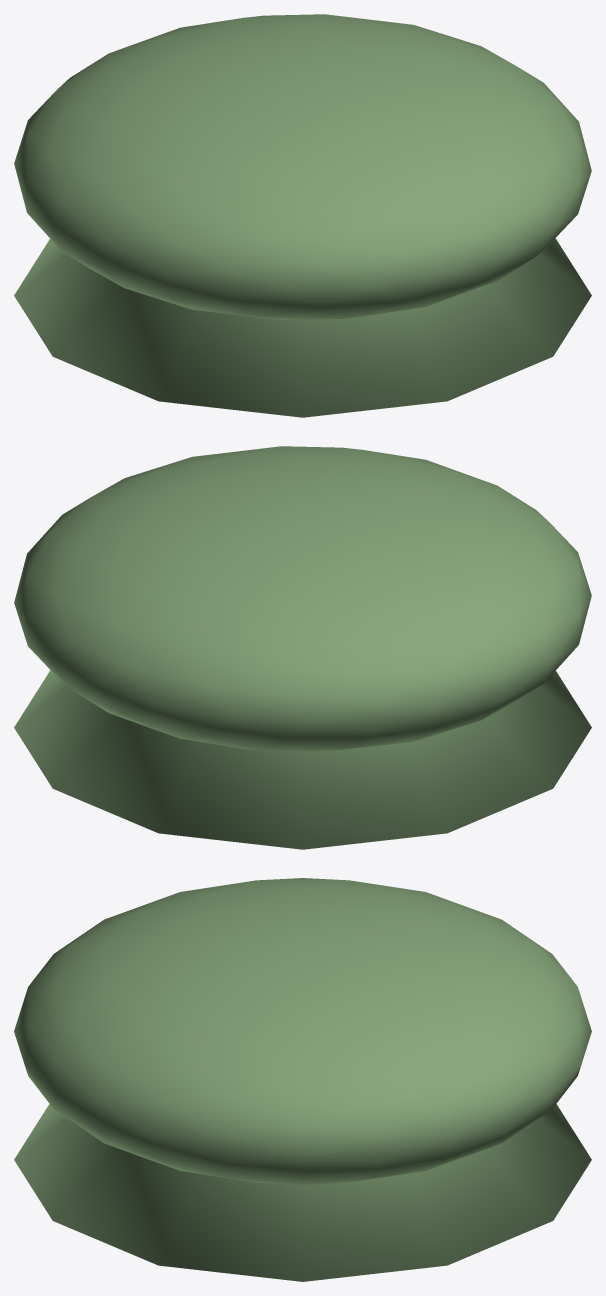
The model's file is reed_tree.glb.
3 renders of one model, top to bottom at view 1: azimuth 30°, elevation 25°; view 2: azimuth 150°, elevation 25°; view 3: azimuth 270°, elevation 25°, orthographic.
Visible parts, largest first — view 1: SM_Tree_Broadleaf, SM_Tree_Conifer; view 2: SM_Tree_Broadleaf, SM_Tree_Conifer; view 3: SM_Tree_Broadleaf, SM_Tree_Conifer.
Boxes of the visible parts, x1,y1,x2,y2 form: SM_Tree_Broadleaf: (14,14,591,320); SM_Tree_Conifer: (14,238,591,417); SM_Tree_Broadleaf: (14,446,591,752); SM_Tree_Conifer: (14,670,591,849); SM_Tree_Broadleaf: (14,878,591,1184); SM_Tree_Conifer: (14,1104,591,1281).
Bounding box in the file's own units: 2 × 1 × 2.
